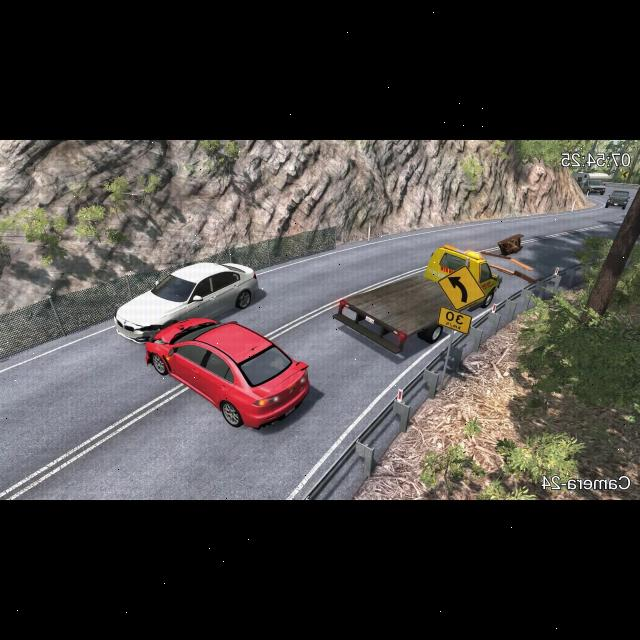moderate: (110, 258, 312, 430)
